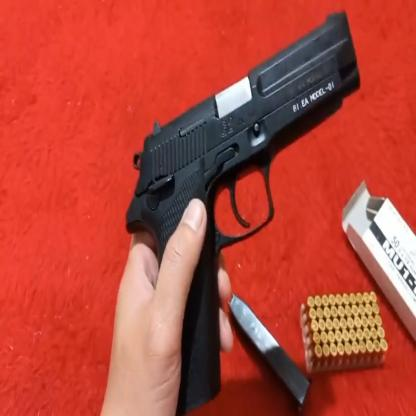handgun: (123, 0, 366, 415)
